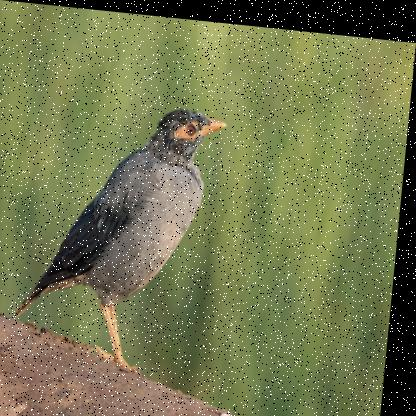Burung: (15, 81, 236, 383)
